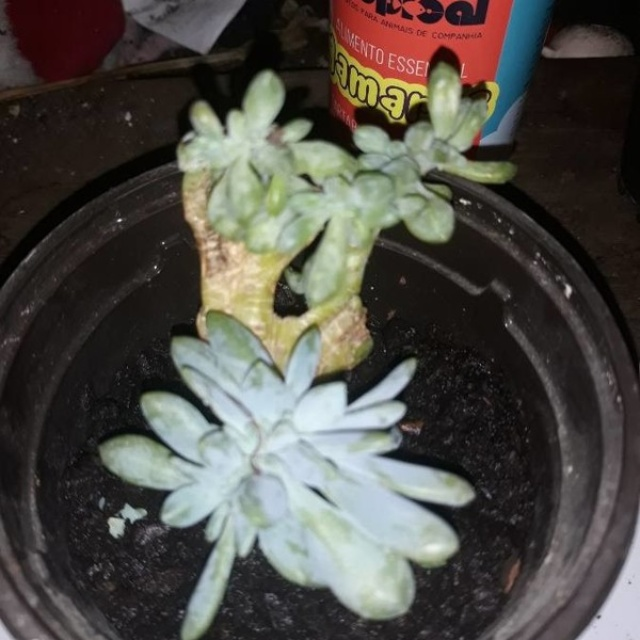obstacle: (61, 60, 595, 629)
